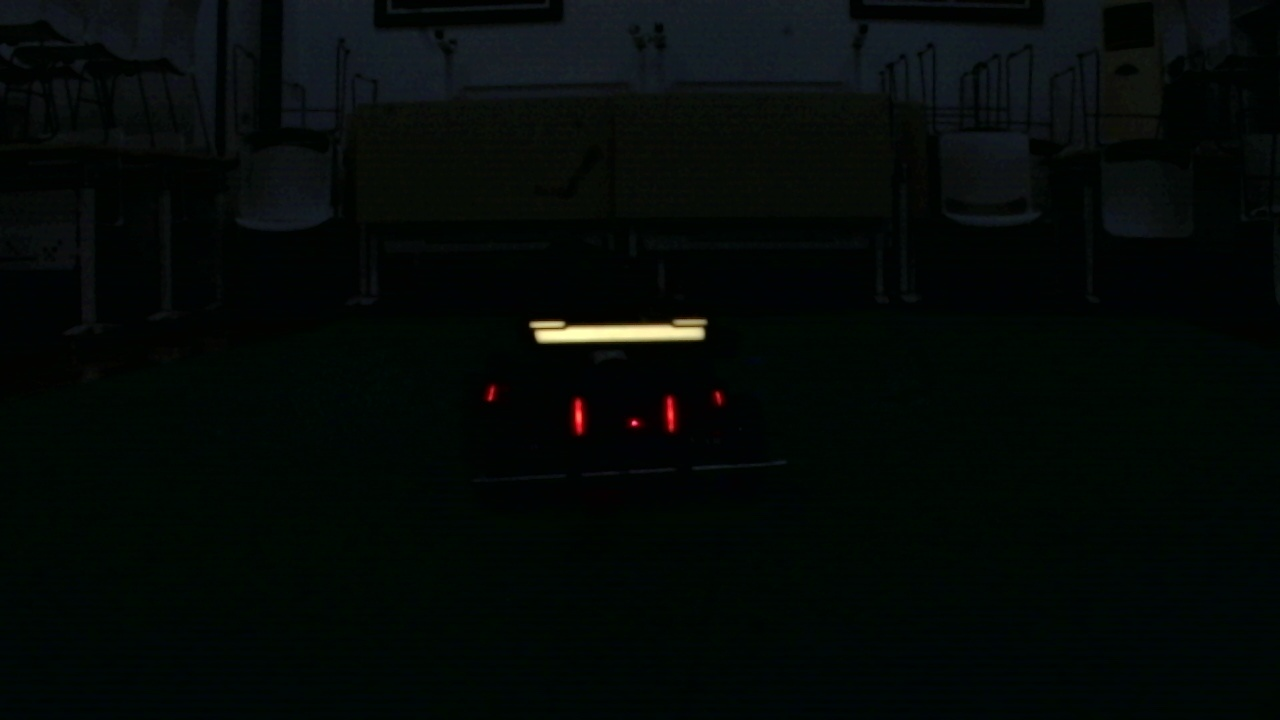lamp: (569, 393, 586, 436), (663, 392, 679, 436)
pair1: (572, 397, 677, 435)
